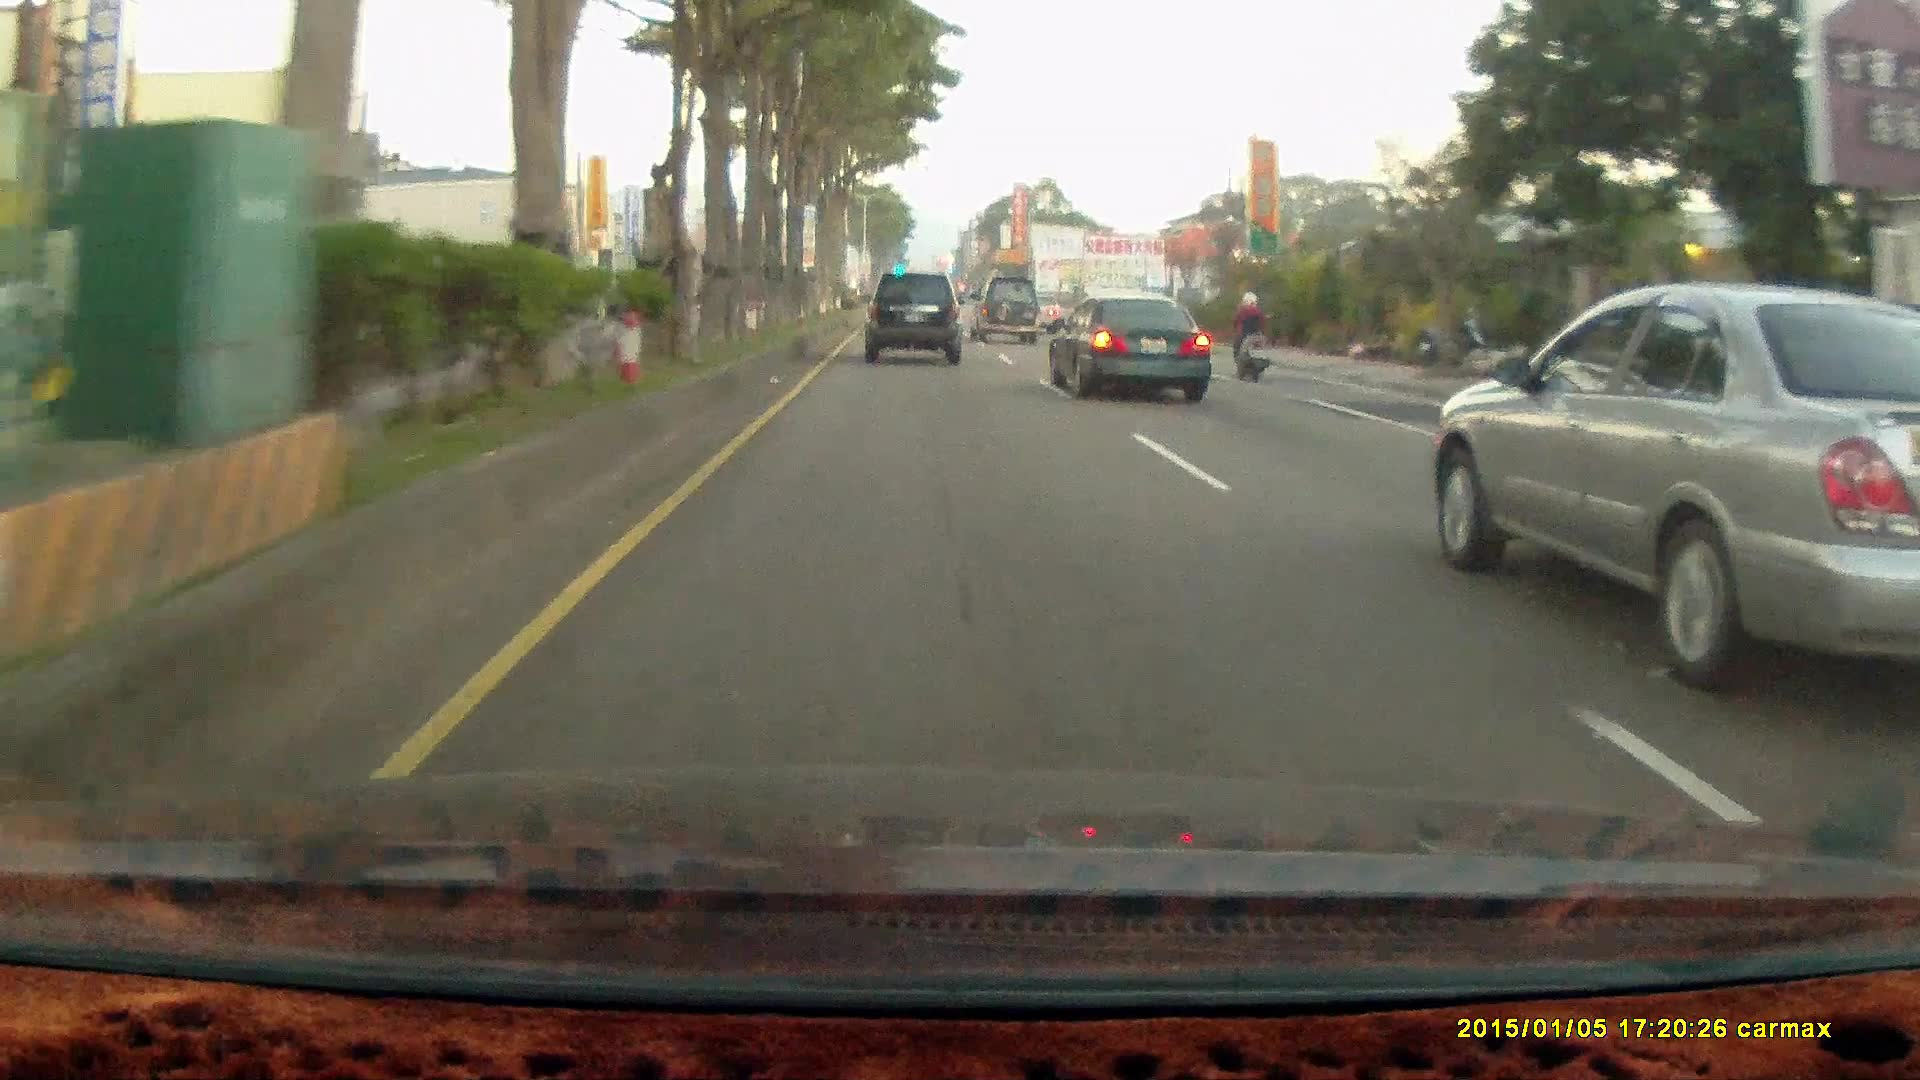rider: (1219, 281, 1281, 390), (1223, 286, 1273, 382)
vehicle: (1432, 295, 1916, 707), (1049, 295, 1217, 409), (1046, 294, 1211, 403), (863, 269, 968, 369), (859, 273, 959, 365), (969, 279, 1044, 347), (968, 277, 1038, 344)
